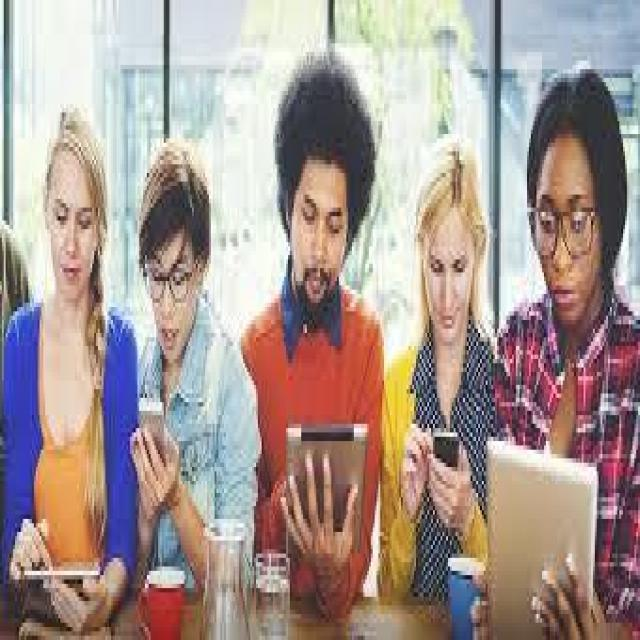person: (472, 39, 634, 636), (237, 30, 390, 601), (8, 52, 156, 631), (105, 121, 264, 623), (372, 108, 518, 636)
